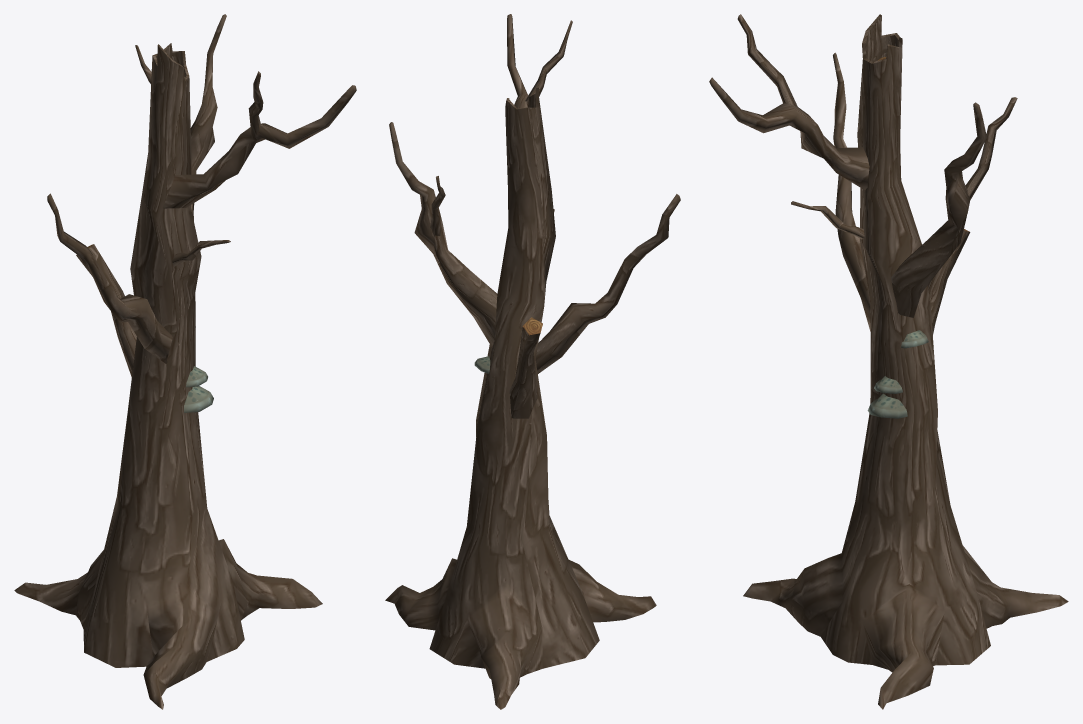
The model's file is Tree_kushu01.FBX.
3 renders of one model, left to right at view 1: azimuth 30°, elevation 25°; view 2: azimuth 150°, elevation 25°; view 3: azimuth 270°, elevation 25°, orthographic. The views are drawn at different scales.
Parts seen in each view (by area): view 1: Tree_kushu01; view 2: Tree_kushu01; view 3: Tree_kushu01.
Part boxes in pixels (box(x1,y1,x2,y2)): Tree_kushu01: box(14, 14, 356, 709); Tree_kushu01: box(385, 14, 680, 709); Tree_kushu01: box(709, 14, 1068, 709).
Bounding box in the file's own units: 2.91 × 5.72 × 2.96.
